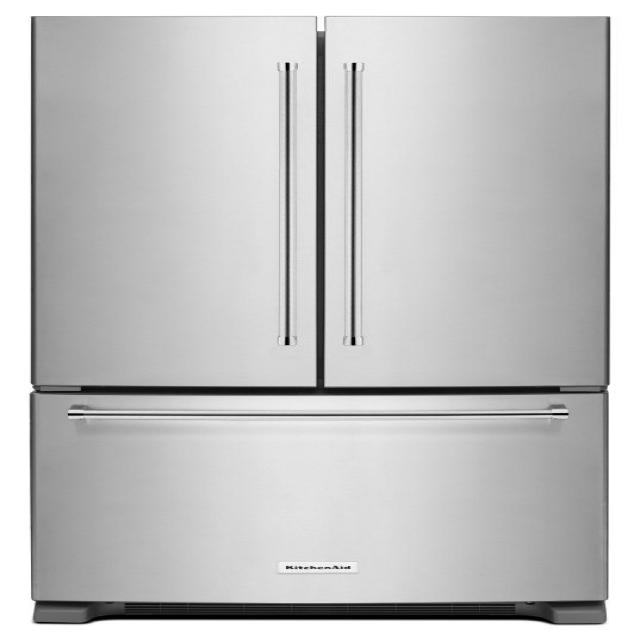obstacle: (29, 15, 610, 624)
